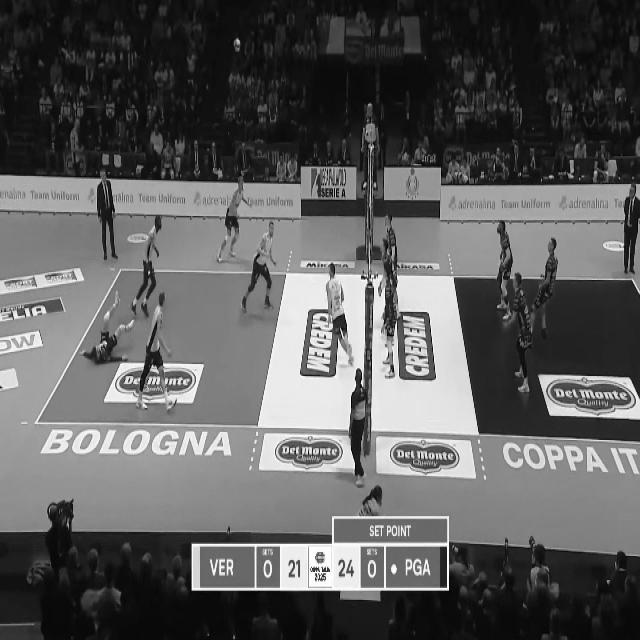volleyball court: (34, 268, 638, 442)
